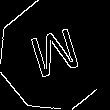M_S: (26, 24, 84, 86)
